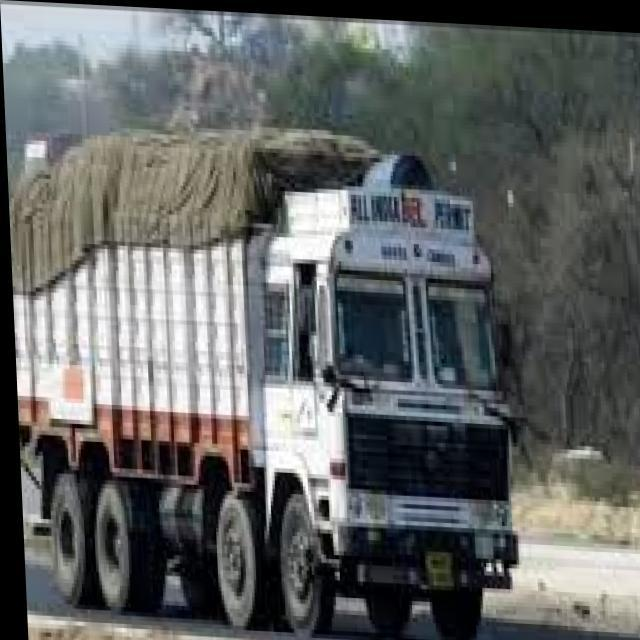covered: (4, 105, 522, 640)
